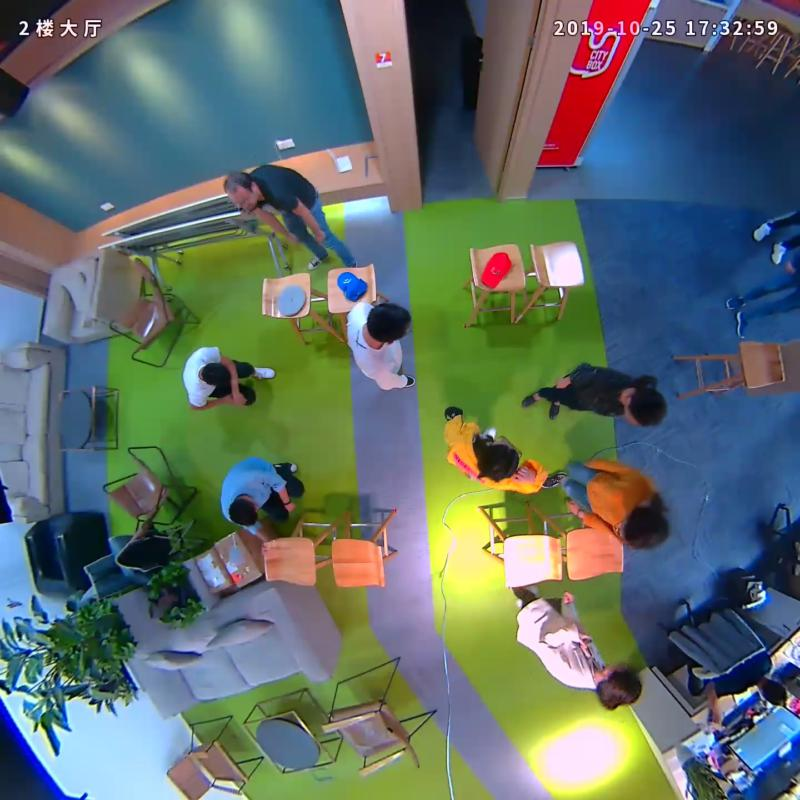head: (593, 658, 651, 713), (616, 378, 674, 432), (618, 500, 676, 554), (357, 299, 416, 350), (468, 435, 523, 485), (216, 169, 262, 215), (224, 492, 264, 531), (196, 357, 232, 392)
